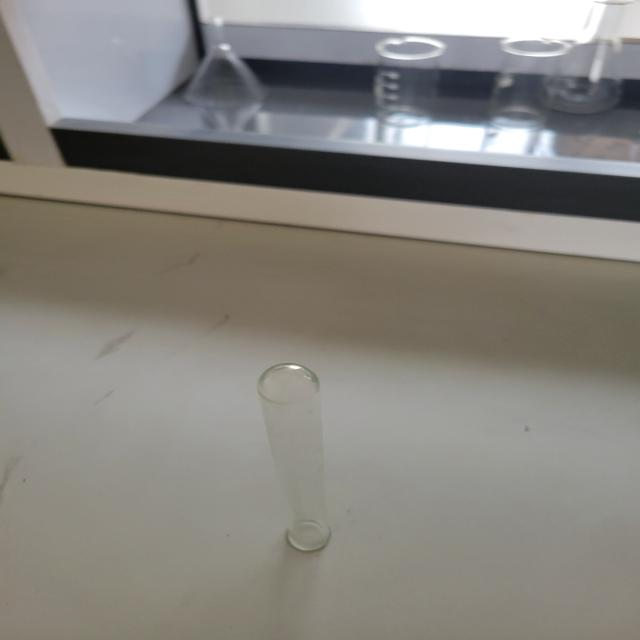Test_Tube: (202, 296, 386, 583)
